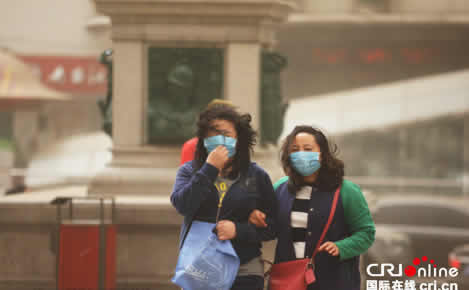yes_mask: (196, 100, 256, 163), (279, 125, 333, 177)
